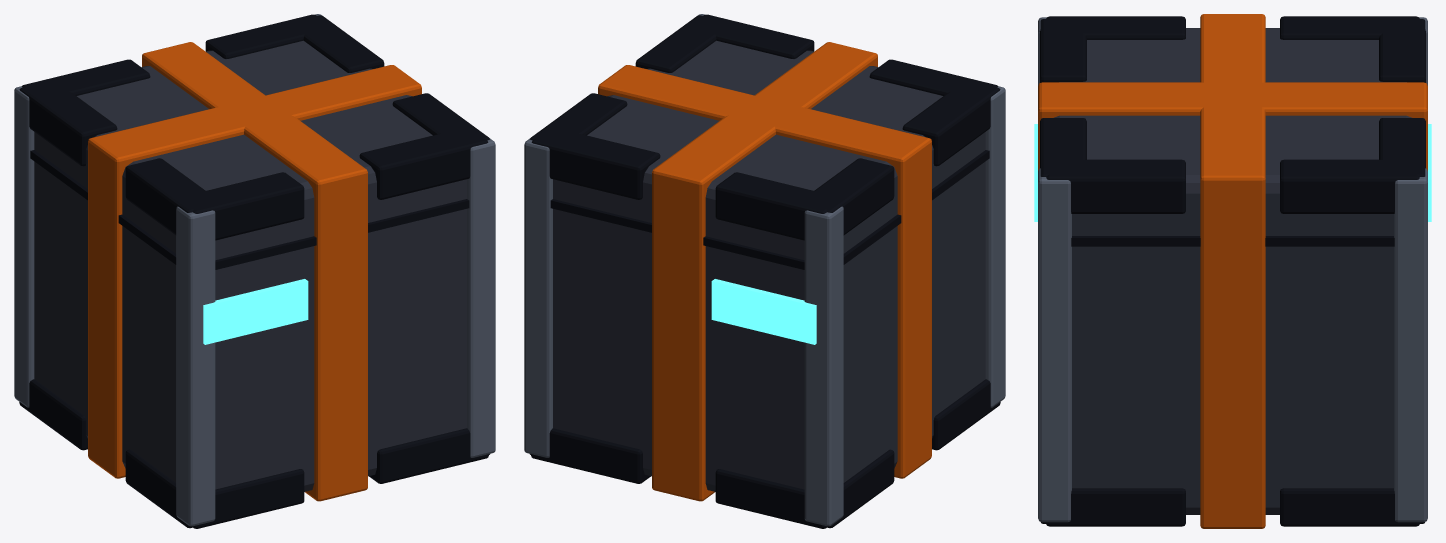
File: CrateB.glb
3 views of the same model, side by side, from view 1: azimuth 30°, elevation 25°; view 2: azimuth 150°, elevation 25°; view 3: azimuth 270°, elevation 25° (orthographic). The views are drawn at different scales.
Parts seen in each view (by area): view 1: Body, Label_Glow; view 2: Body, Label_Glow; view 3: Body, Label_Glow.
Part boxes in pixels (x1=…): Body: x1=14, y1=14, x2=495, y2=528; Label_Glow: x1=203, y1=279, x2=308, y2=344; Body: x1=524, y1=14, x2=1005, y2=528; Label_Glow: x1=711, y1=279, x2=816, y2=344; Body: x1=1038, y1=14, x2=1427, y2=528; Label_Glow: x1=1034, y1=124, x2=1431, y2=221.
Size of the model in its own units: 4.16 by 4.16 by 4.24.
